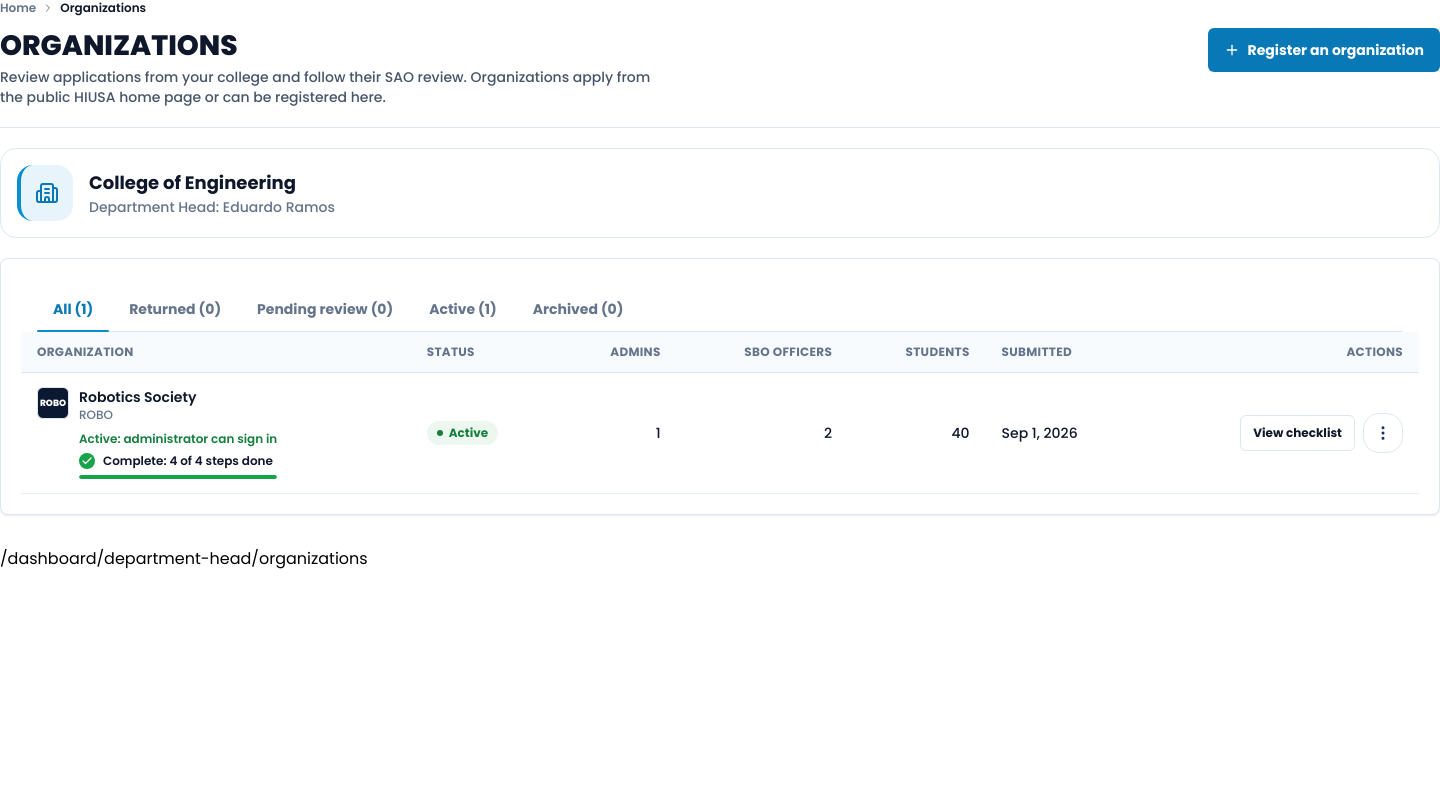
CollegeOrganizationsPage › shows leadership and role counts in the read-only organization drawer
This screenshot has width=1440, height=810.
Click the button named "Actions for Robotics Society".
click(1383, 433)  # box top-left (1363, 413), bottom-right (1403, 453)
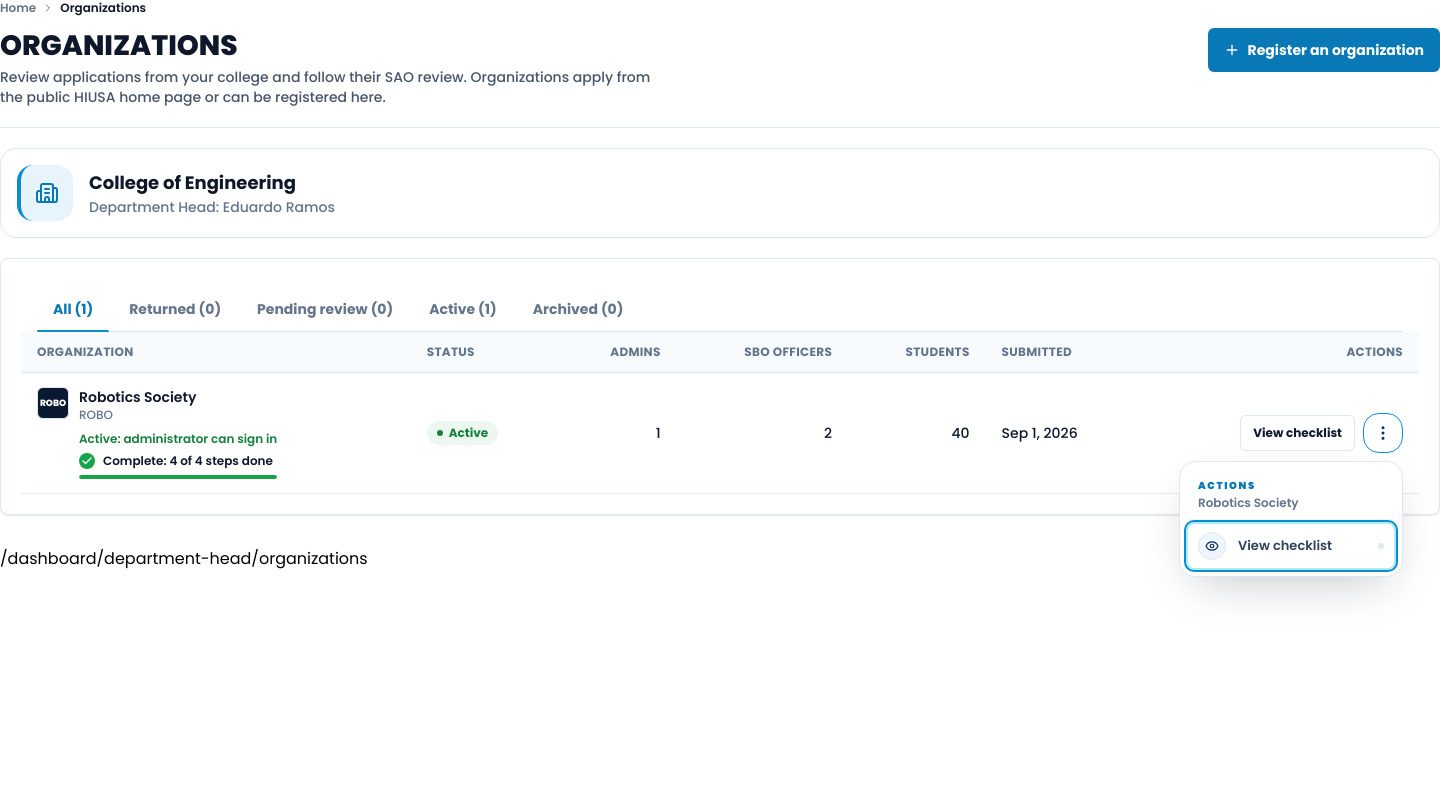
Click the menu item "View checklist".
click(1291, 546)  # box top-left (1188, 524), bottom-right (1394, 568)
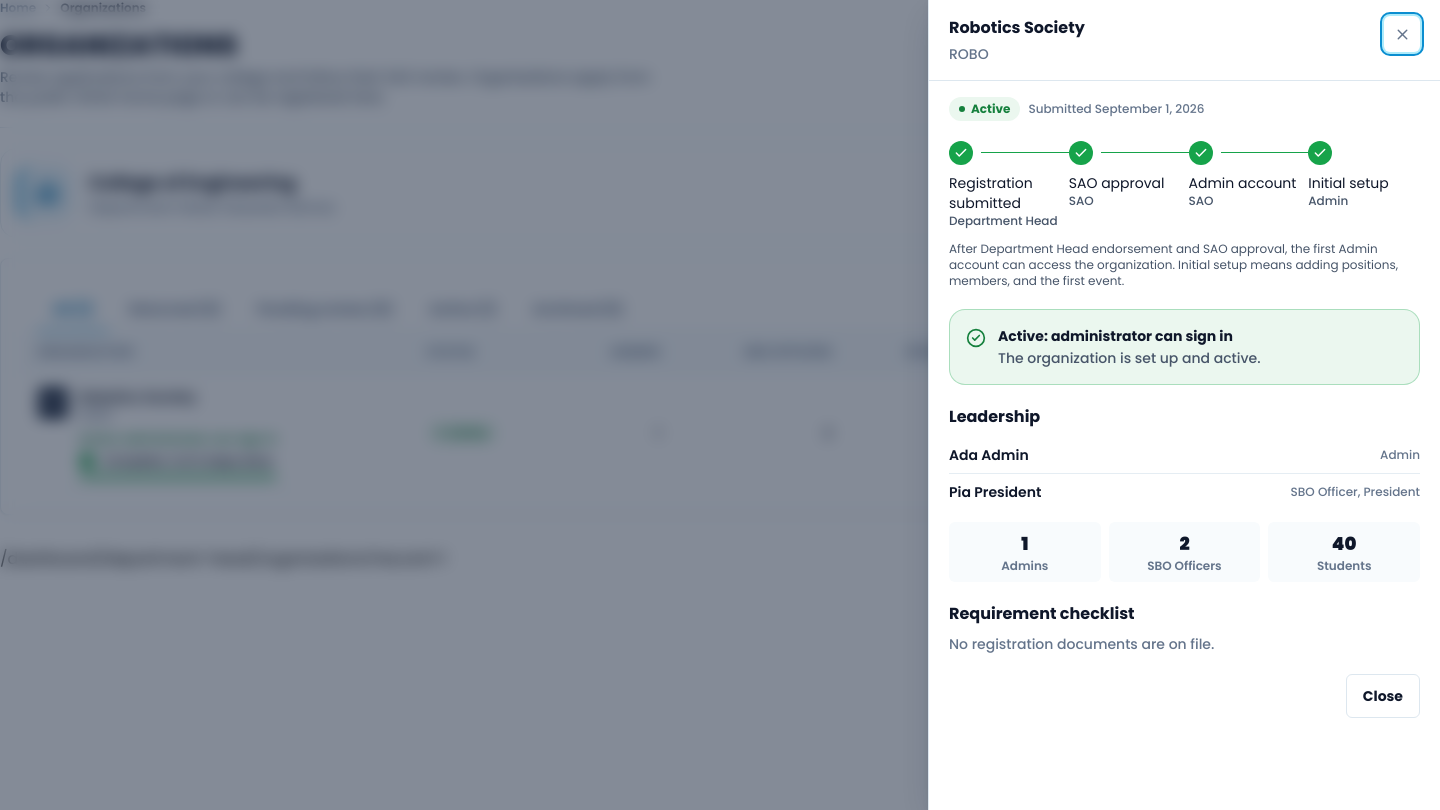
Expected: the heading "Leadership" is shown, top-left (949, 405), bottom-right (1040, 428)
Expected: the text "Ada Admin" is shown, top-left (949, 445), bottom-right (1029, 465)
Expected: the text "SBO Officer, President" is shown, top-left (1291, 484), bottom-right (1420, 500)
